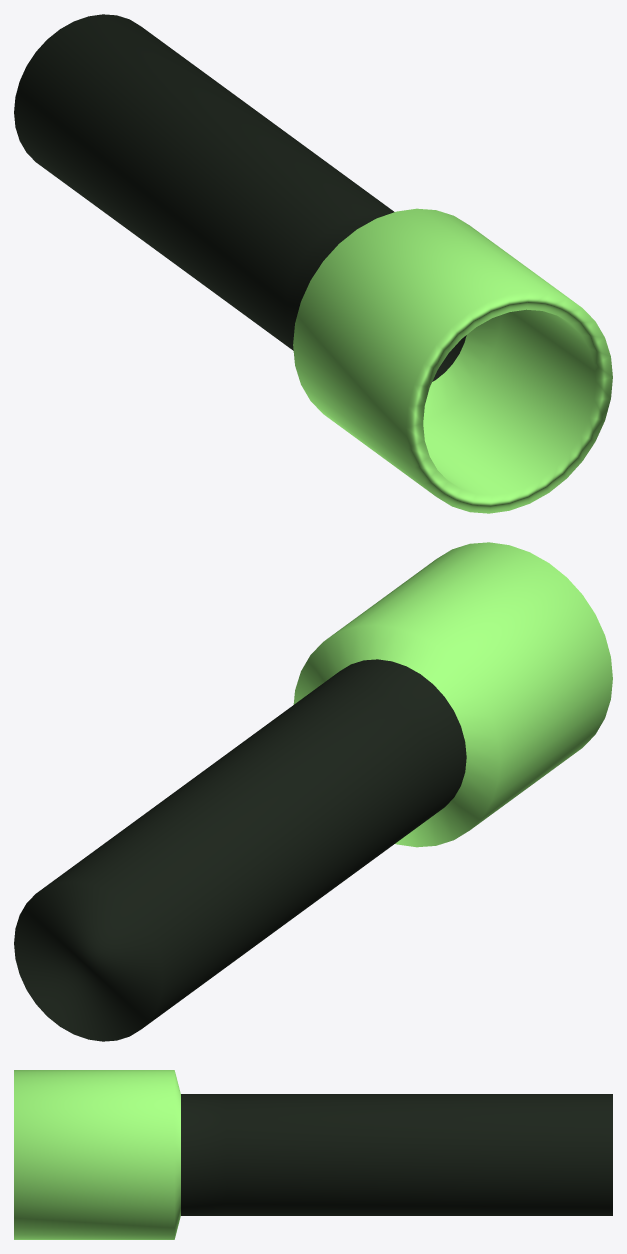
Rendered from Debris_Shaft.glb.
The picture shows the model from 3 angles, top to bottom: view 1: azimuth 30°, elevation 25°; view 2: azimuth 150°, elevation 25°; view 3: azimuth 270°, elevation 25°; orthographic projection. The views are drawn at different scales.
Parts seen in each view (by area): view 1: Shaft.001; view 2: Shaft.001; view 3: Shaft.001.
Boxes of the visible parts, <box> form: Shaft.001: <box>14,14,612,513</box>; Shaft.001: <box>14,542,612,1041</box>; Shaft.001: <box>14,1070,612,1239</box>.
Bounding box in the file's own units: 0.4953 × 0.4953 × 1.75.
